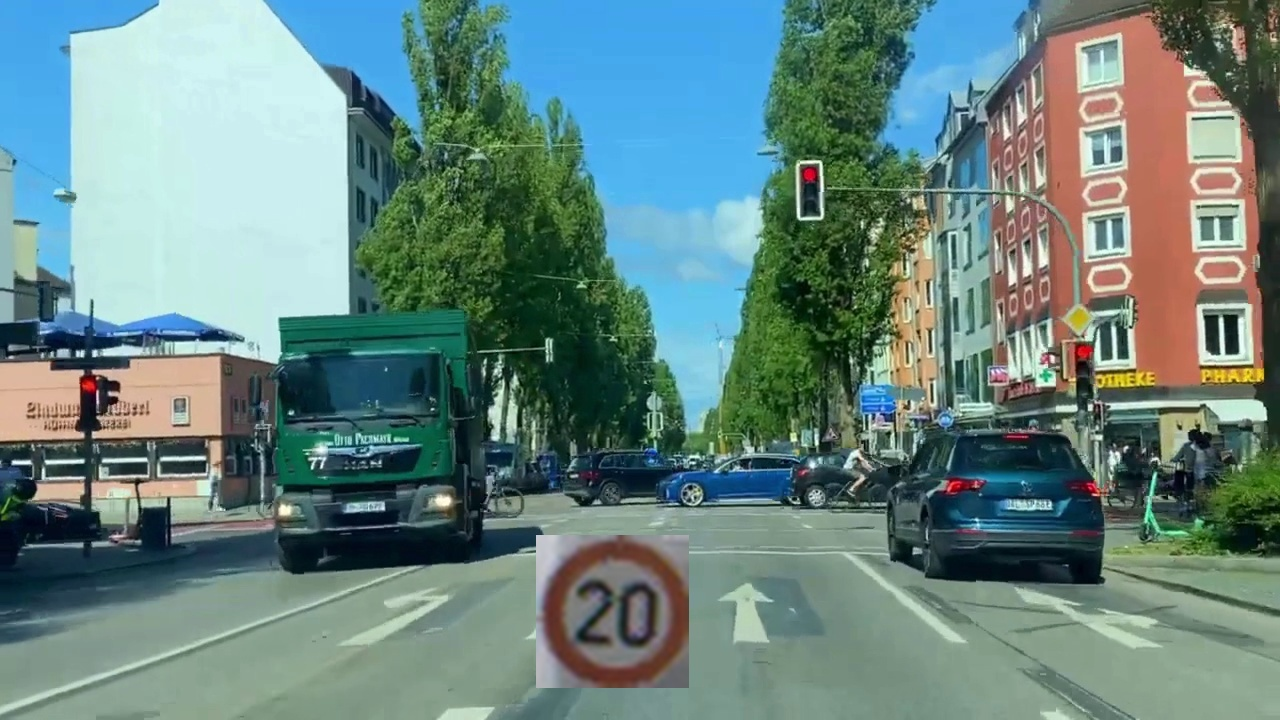Speed 20: (536, 535, 689, 688)
